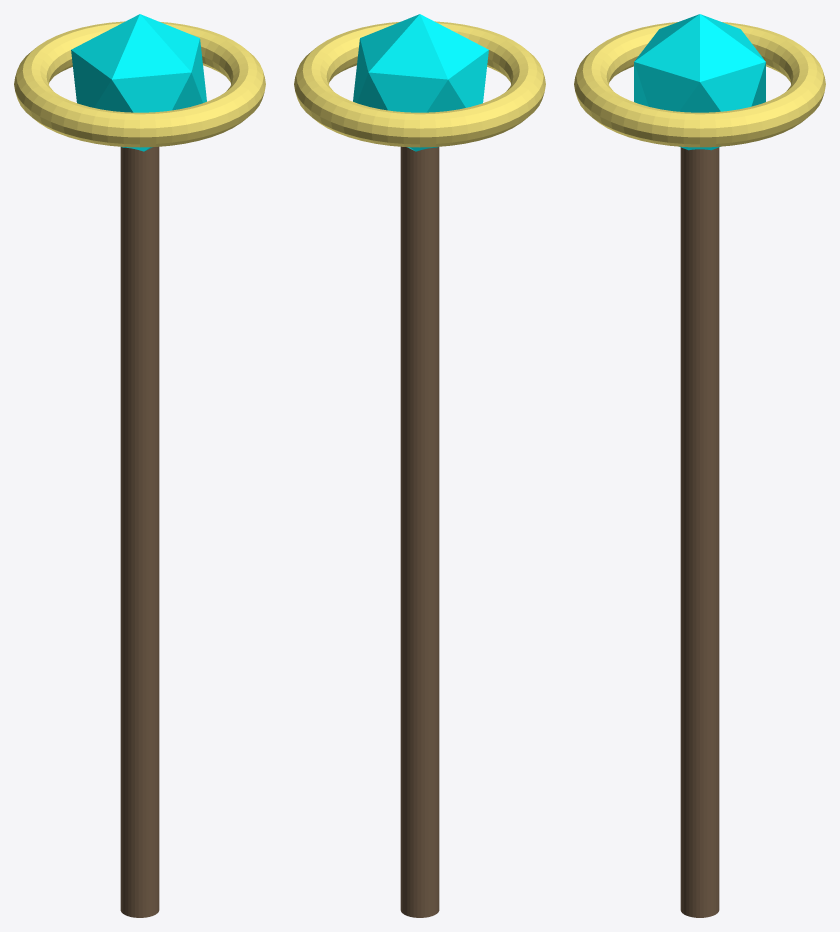
Rendered from mage_staff.glb.
3 renders of one model, left to right at view 1: azimuth 30°, elevation 25°; view 2: azimuth 150°, elevation 25°; view 3: azimuth 270°, elevation 25°, orthographic.
Parts seen in each view (by area): view 1: Cylinder, Torus, Icosphere; view 2: Cylinder, Torus, Icosphere; view 3: Cylinder, Torus, Icosphere.
Boxes of the visible parts, bbox=[...] form: Cylinder: bbox=[120, 146, 159, 917]; Torus: bbox=[14, 21, 265, 147]; Icosphere: bbox=[71, 14, 206, 151]; Cylinder: bbox=[400, 146, 439, 917]; Torus: bbox=[294, 21, 545, 147]; Icosphere: bbox=[353, 14, 488, 151]; Cylinder: bbox=[680, 147, 719, 917]; Torus: bbox=[574, 22, 825, 147]; Icosphere: bbox=[634, 14, 765, 150].
Bounding box in the file's own units: 0.65 × 2.55 × 0.65.
